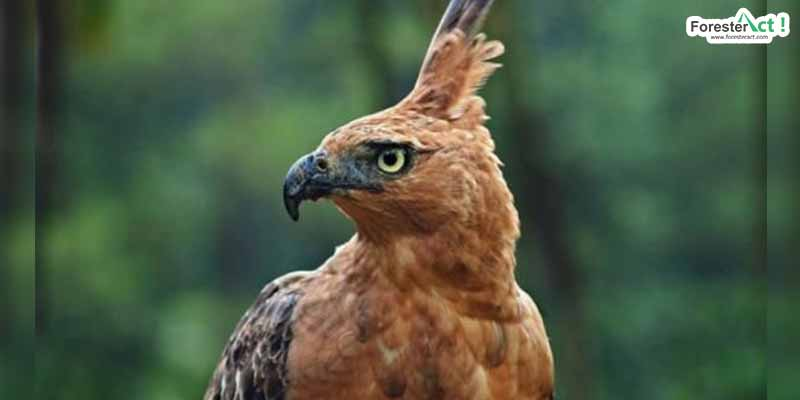Pengoyak Daging: (273, 145, 327, 227)
